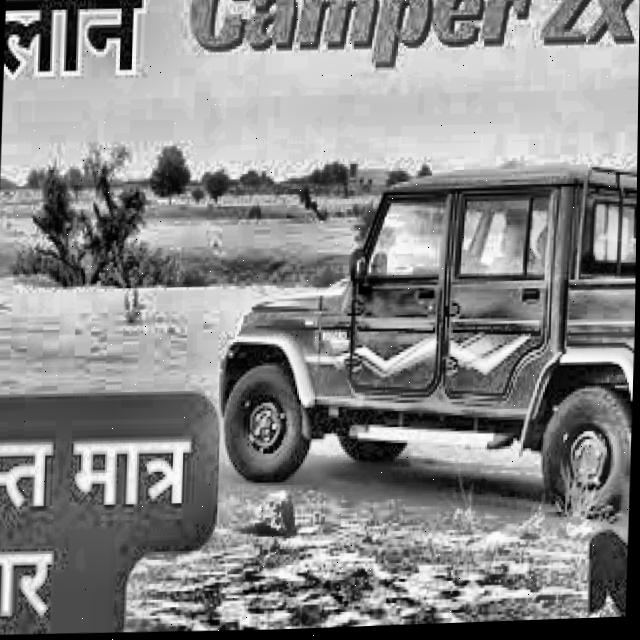light_vehicle: (204, 171, 638, 527)
